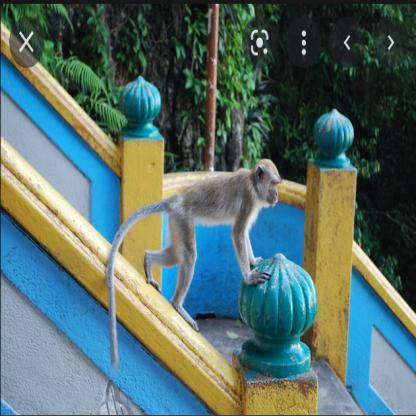monkey: (105, 155, 281, 332)
